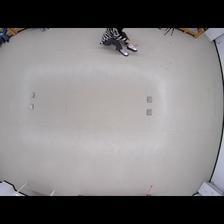fall: (97, 26, 138, 55)
